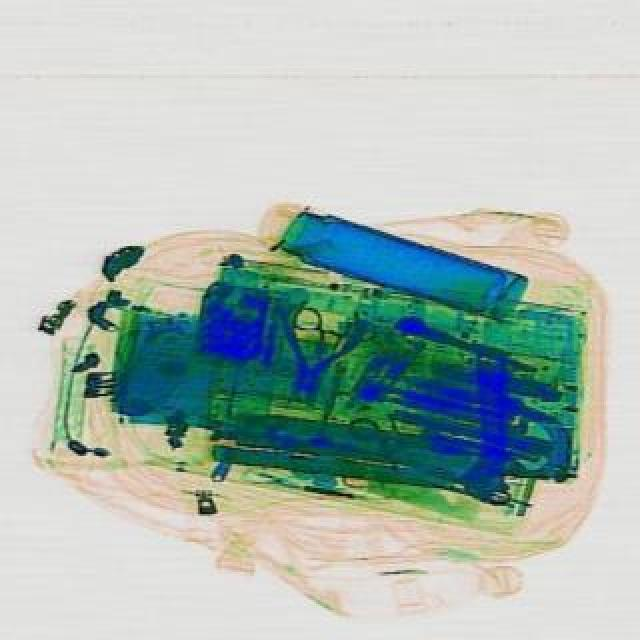wrench: (260, 300, 372, 410)
